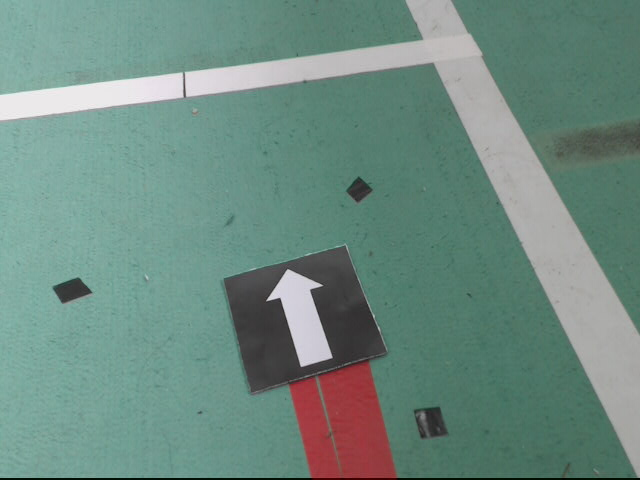straight: (222, 243, 388, 394)
